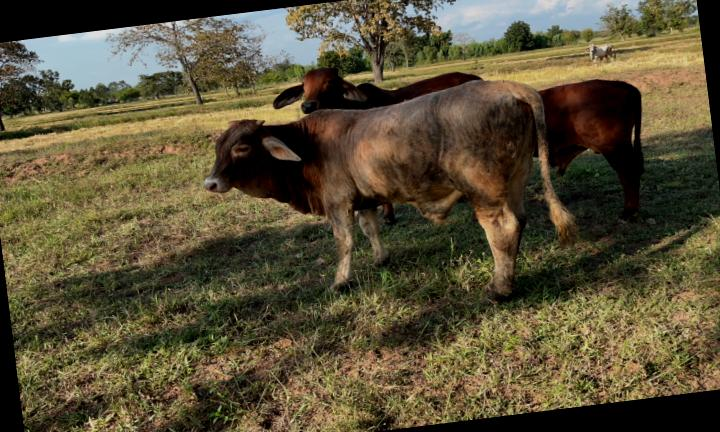Charolais: (204, 80, 547, 301)
